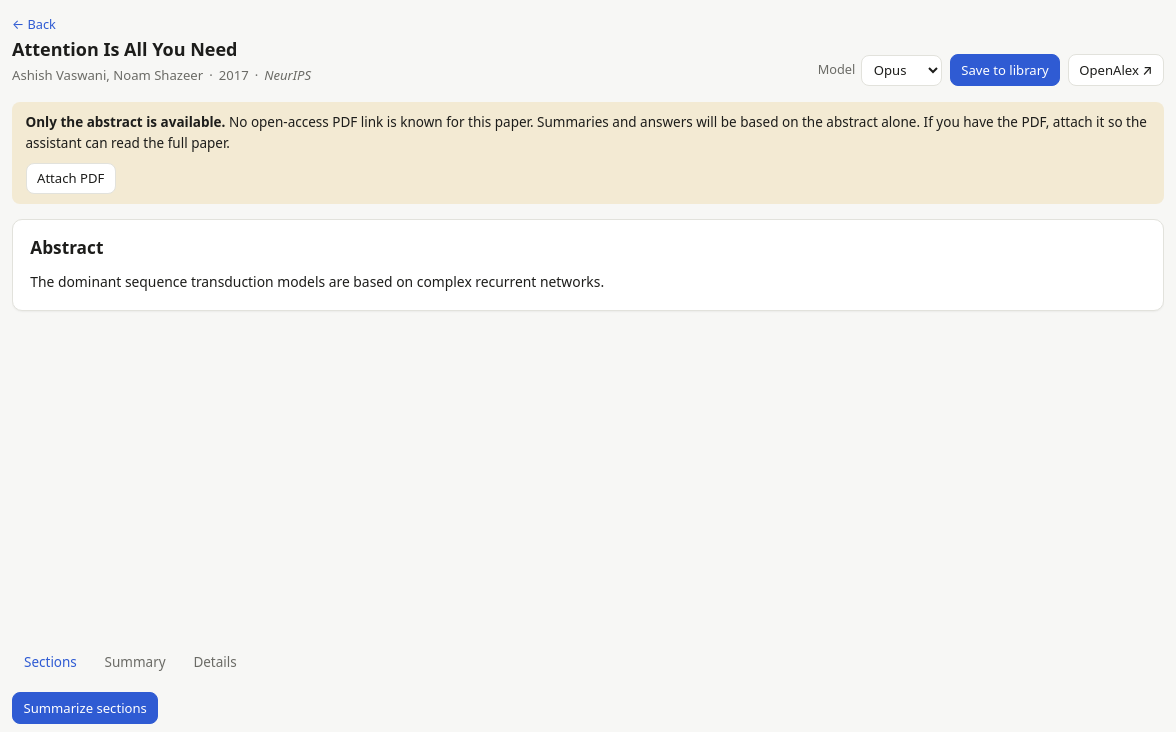
Test: PaperPage › saves a paper that was only opened from search
Click the button "Save to library" at (1005, 70), box [950,54,1060,86]
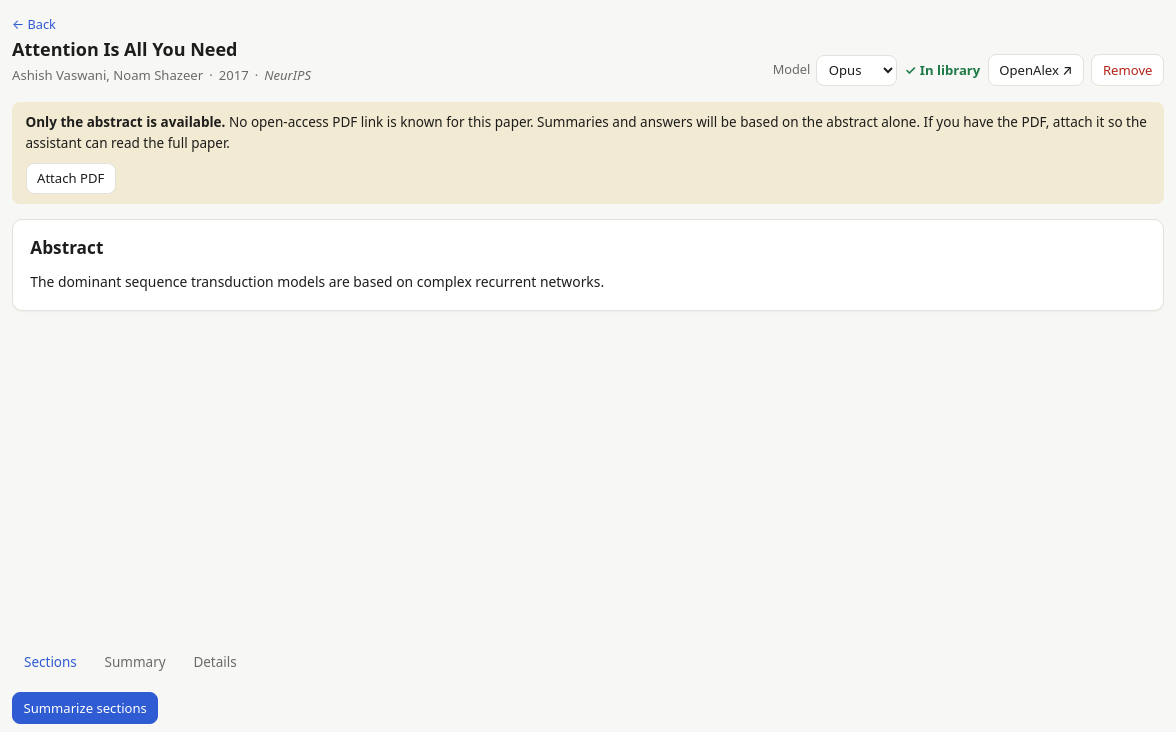
Now the text "✓ In library" is shown, box [905,60,980,80]
